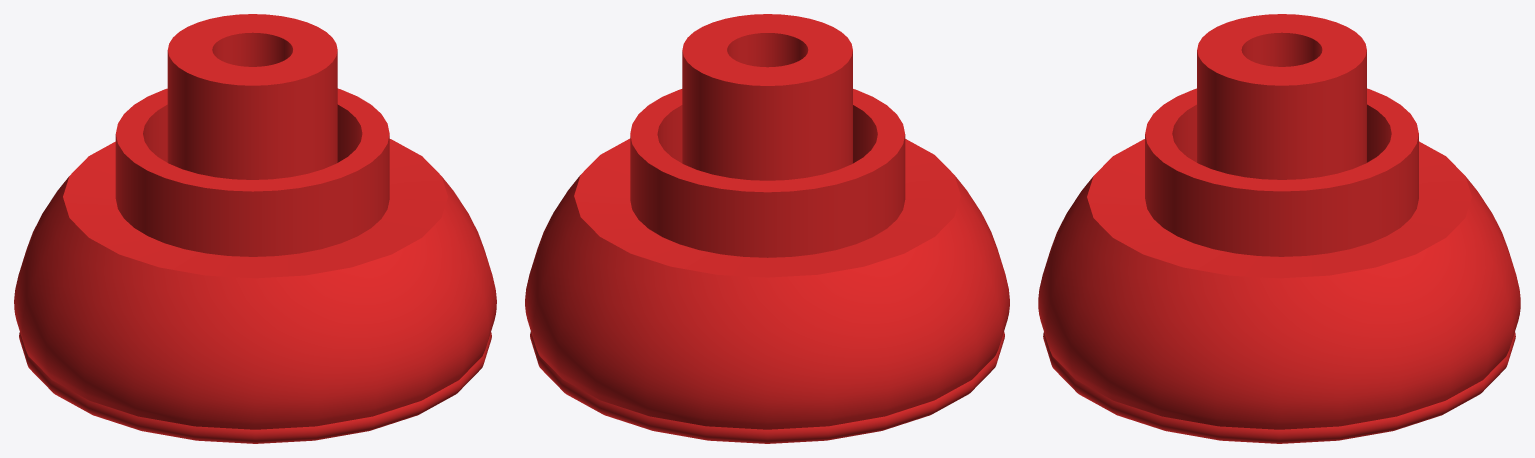
Rendered from engine.dae.
3 renders of one model, left to right at view 1: azimuth 30°, elevation 25°; view 2: azimuth 150°, elevation 25°; view 3: azimuth 270°, elevation 25°, orthographic.
Visible parts, largest first — view 1: Lathe.2, Tube, Tube.1; view 2: Lathe.2, Tube, Tube.1; view 3: Lathe.2, Tube, Tube.1.
Part boxes in pixels (x1,y1,x2,y2): Lathe.2: (14,139,496,443); Tube: (115,88,389,256); Tube.1: (167,14,337,179); Lathe.2: (525,138,1009,443); Tube: (630,89,905,257); Tube.1: (682,14,852,180); Lathe.2: (1038,139,1520,443); Tube: (1145,88,1418,256); Tube.1: (1197,14,1366,179).
Bounding box in the file's own units: 836 × 577 × 836.
